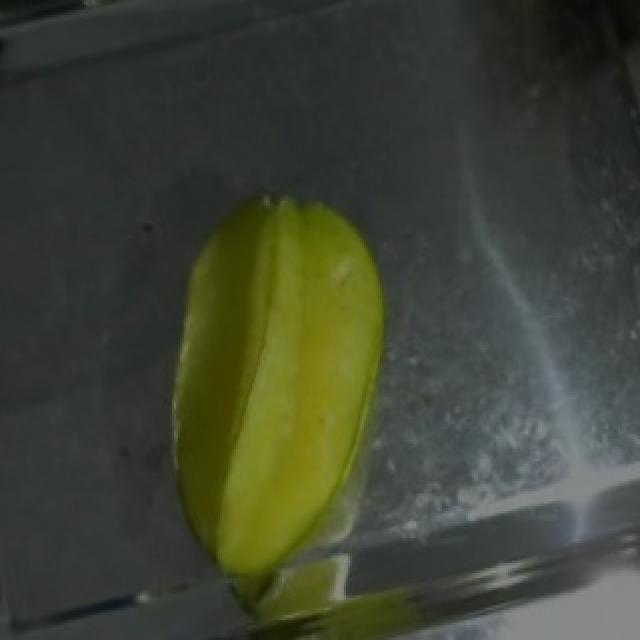fruit: (142, 169, 444, 548)
